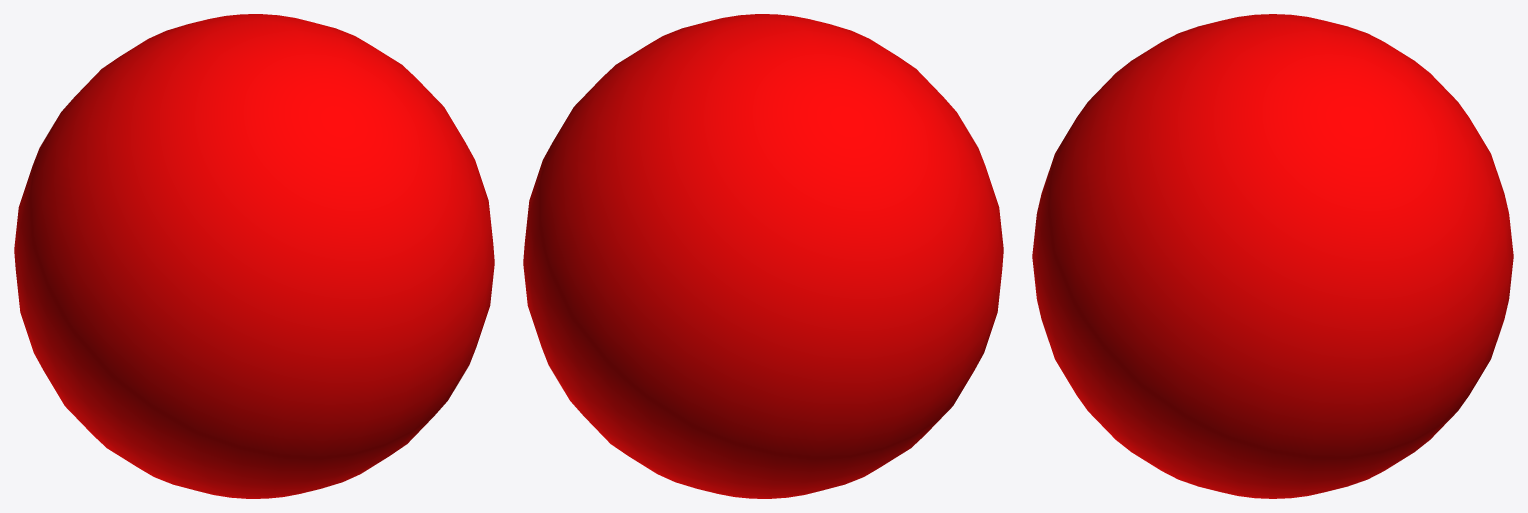
Rendered from gltfTest.glb.
3 renders of one model, left to right at view 1: azimuth 30°, elevation 25°; view 2: azimuth 150°, elevation 25°; view 3: azimuth 270°, elevation 25°, orthographic.
Parts seen in each view (by area): view 1: 球; view 2: 球; view 3: 球.
Part boxes in pixels (x1,y1,x2,y2): 球: (14,14,494,498); 球: (523,14,1003,498); 球: (1032,14,1513,498).
Bounding box in the file's own units: 1.96 × 1.96 × 1.96.
1 material, 1 textured.
